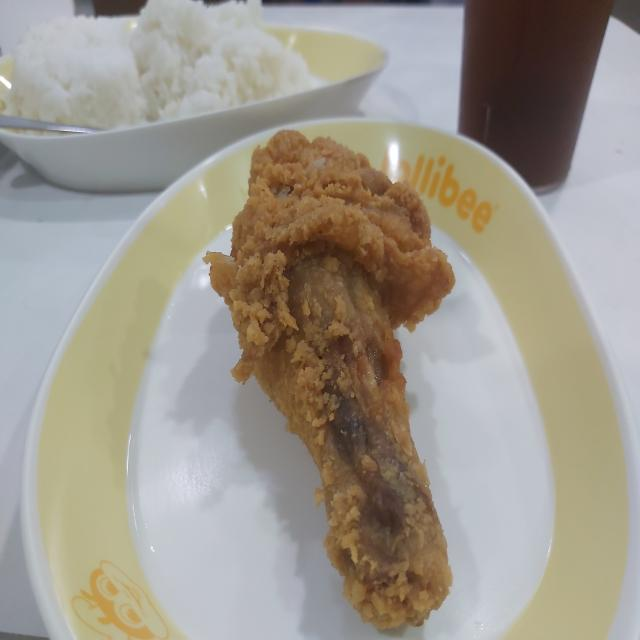Chicken -Fried Chicken-: (202, 120, 484, 640)
